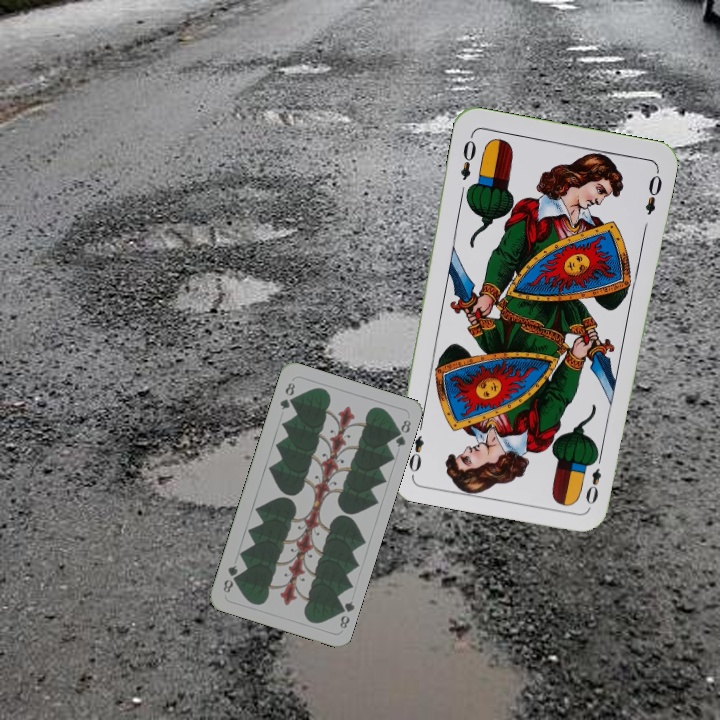EO: (581, 450, 605, 507), (456, 131, 479, 183)
G8: (333, 597, 357, 631), (276, 378, 298, 412)
